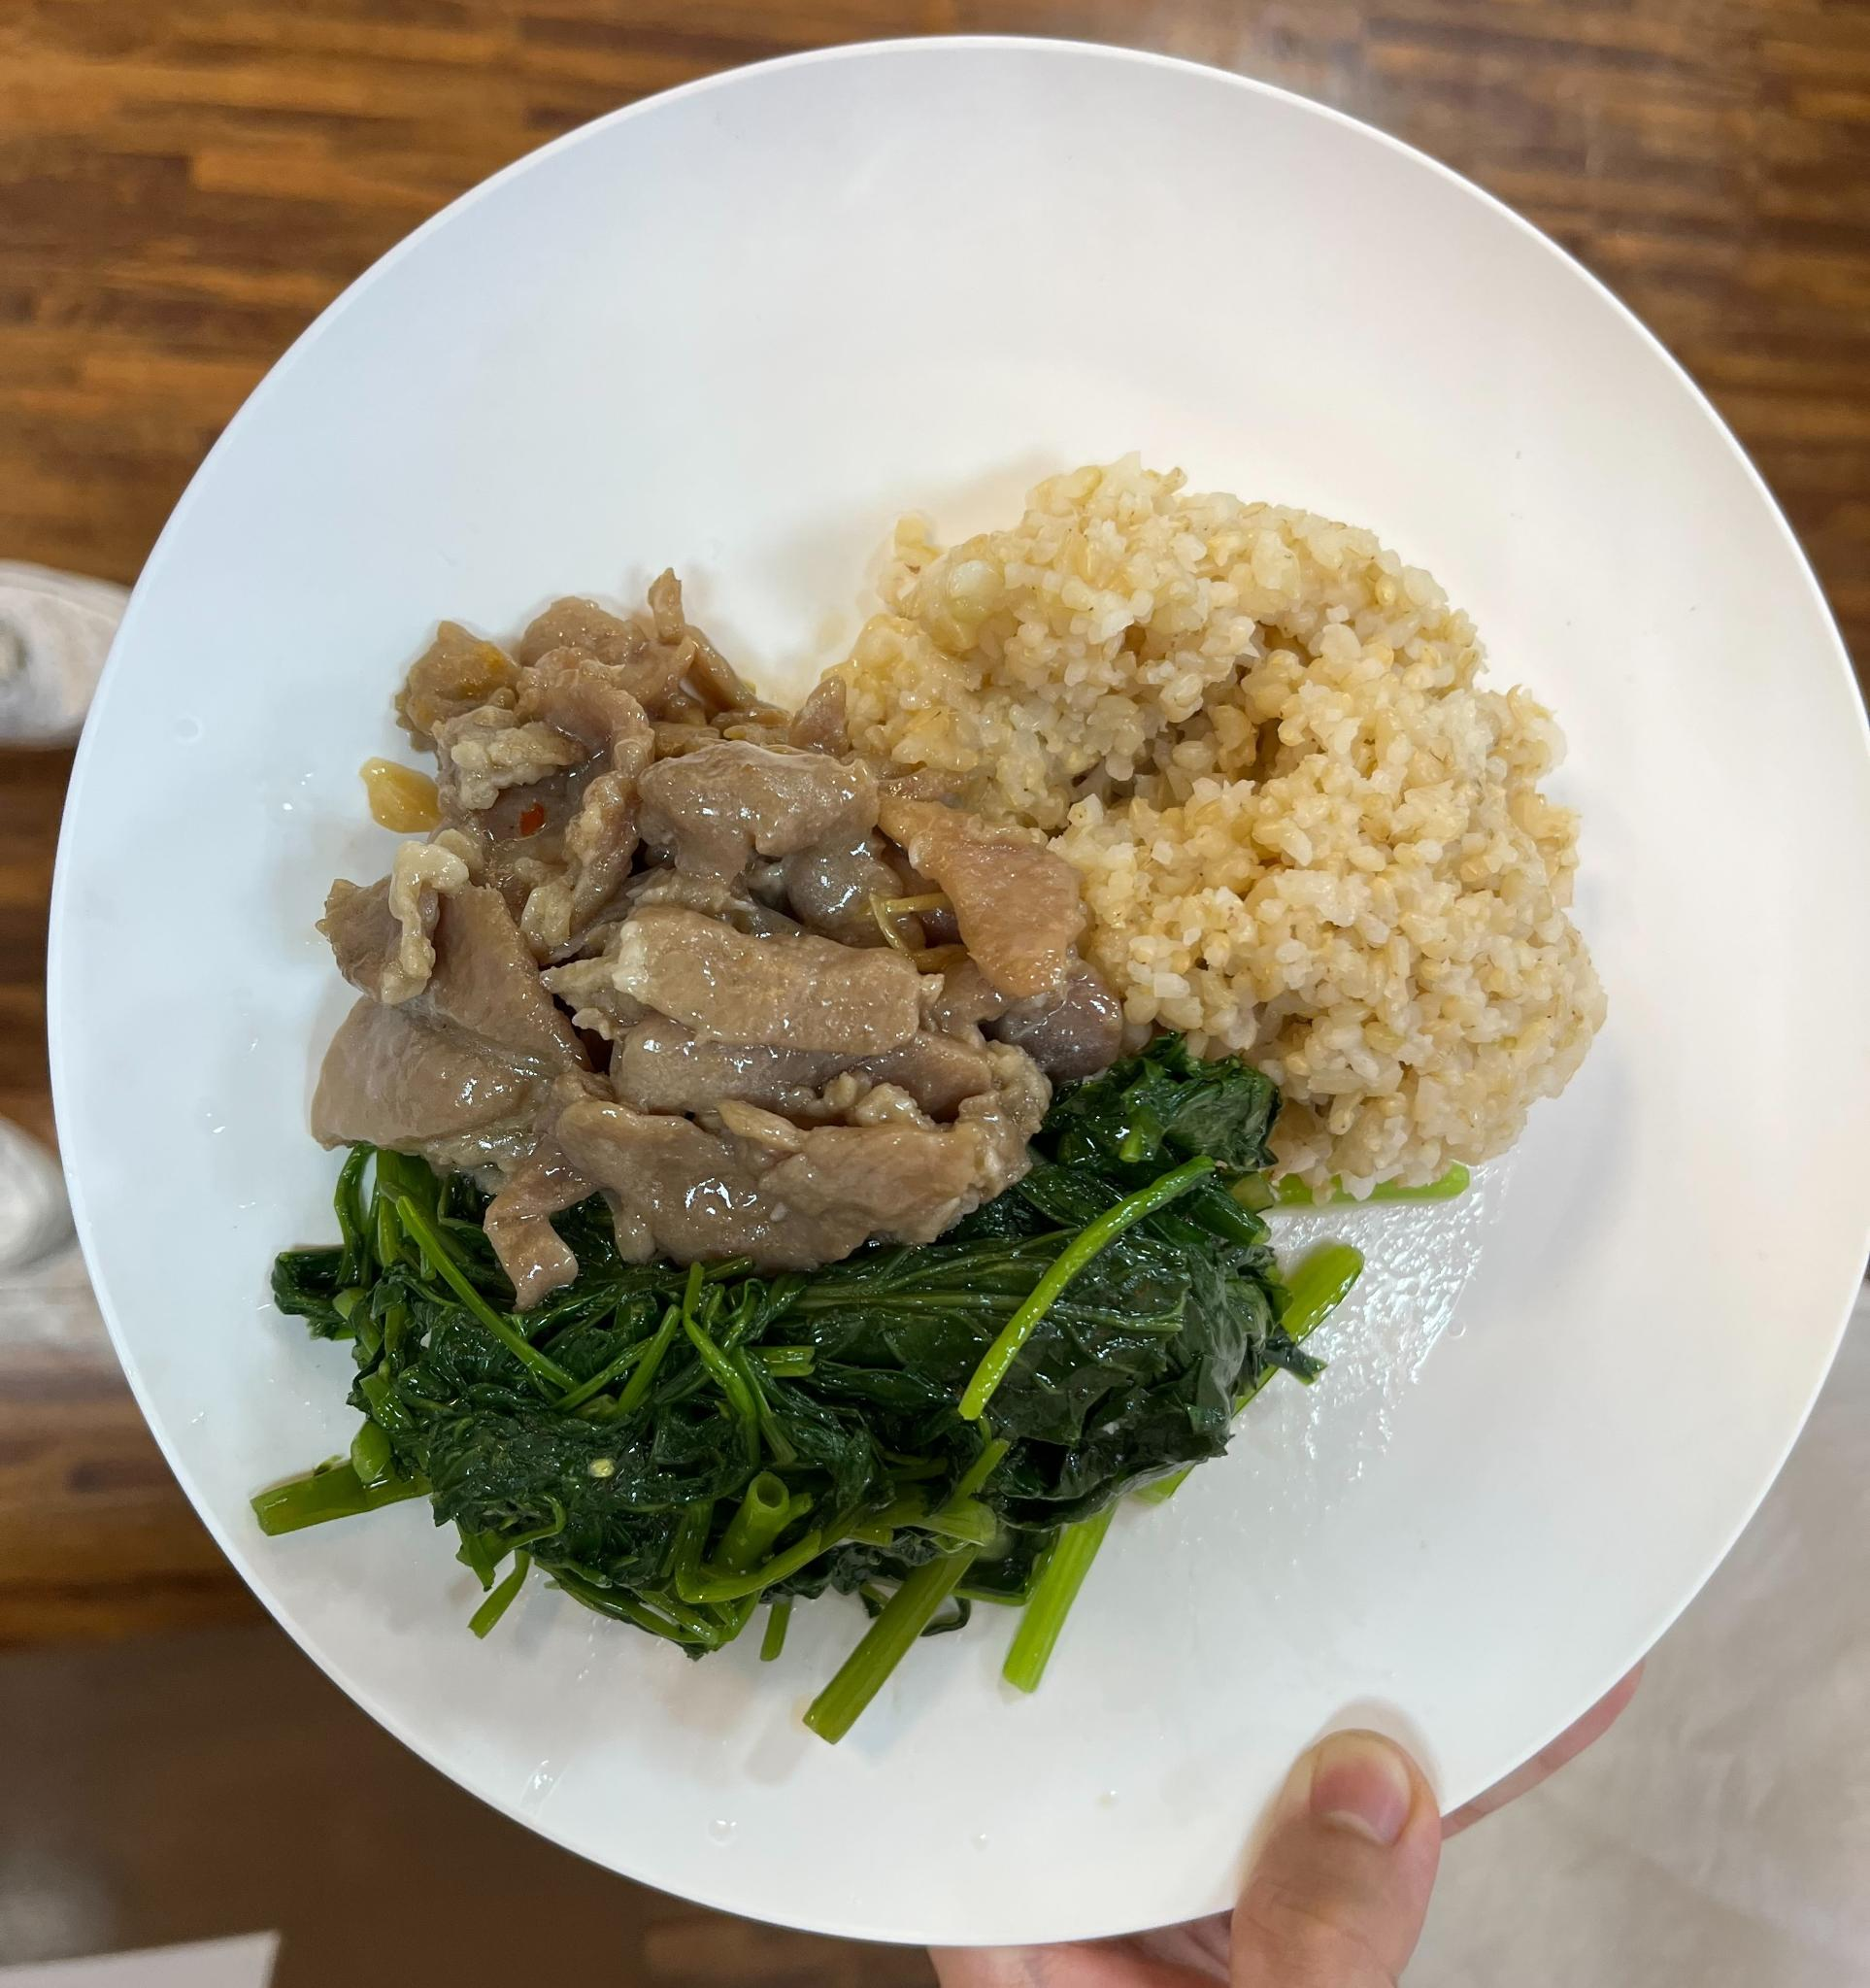big fried chicken leg: (44, 39, 1870, 1953)
box: (844, 459, 1587, 1209)
braised fish fillet: (260, 1230, 1320, 1659)
braised pork: (292, 589, 1081, 1269)
